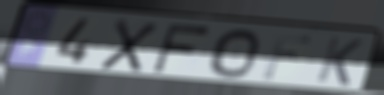4: (53, 17, 94, 67)
F: (150, 22, 214, 74), (260, 31, 315, 81)
K: (313, 35, 367, 88)
O: (207, 28, 263, 80)
X: (96, 17, 162, 75)
